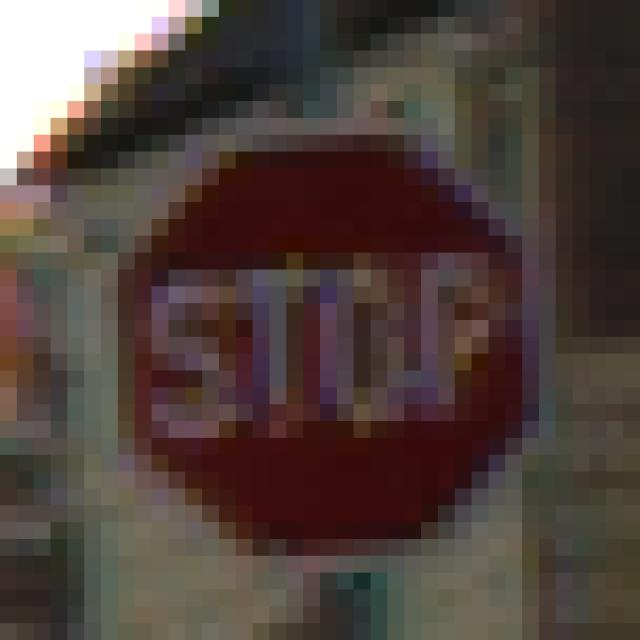STOP: (85, 85, 557, 557)
